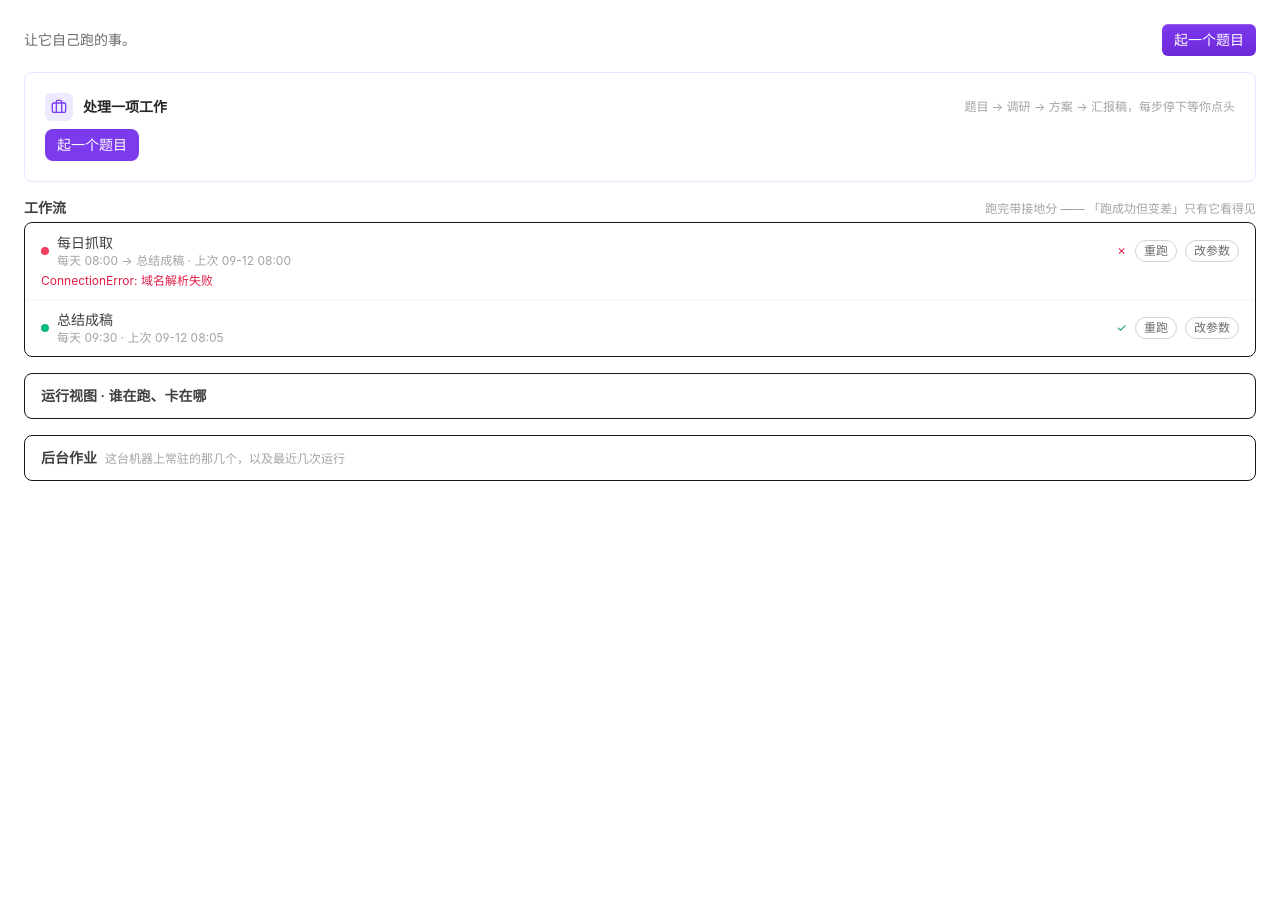
WorkPage · 失败不再静默（P0） › 重跑失败要说出来——原来是空 catch，点了什么都没发生
「重跑」在每条工作流上各有一颗，取第一颗就行——这里验的是失败会不会被吞
Click the 1st button "重跑" at {"x": 1156, "y": 251}, box [1135,240,1177,262]
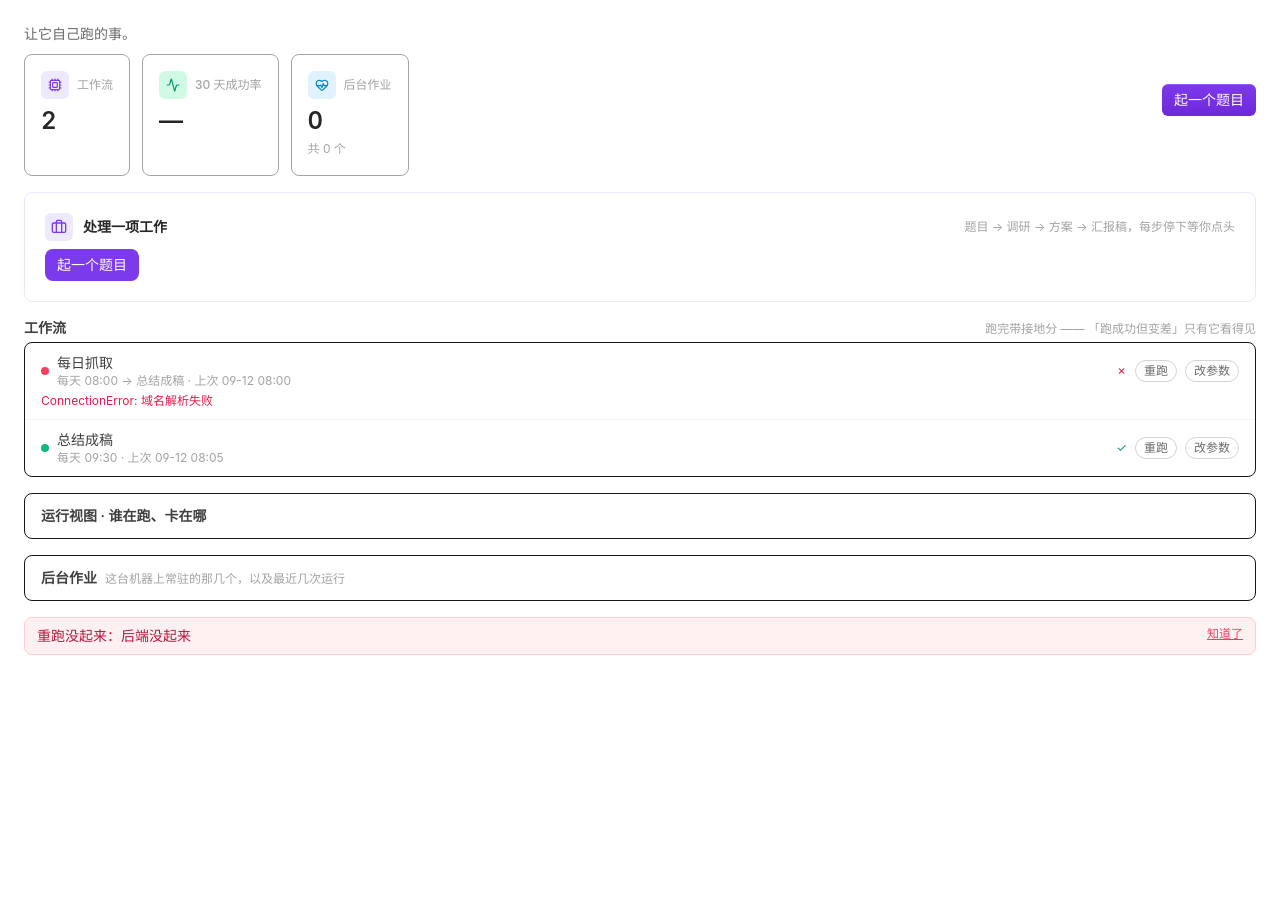
Check: the text "重跑没起来：后端没起来" is shown, box [37,626,191,646]
